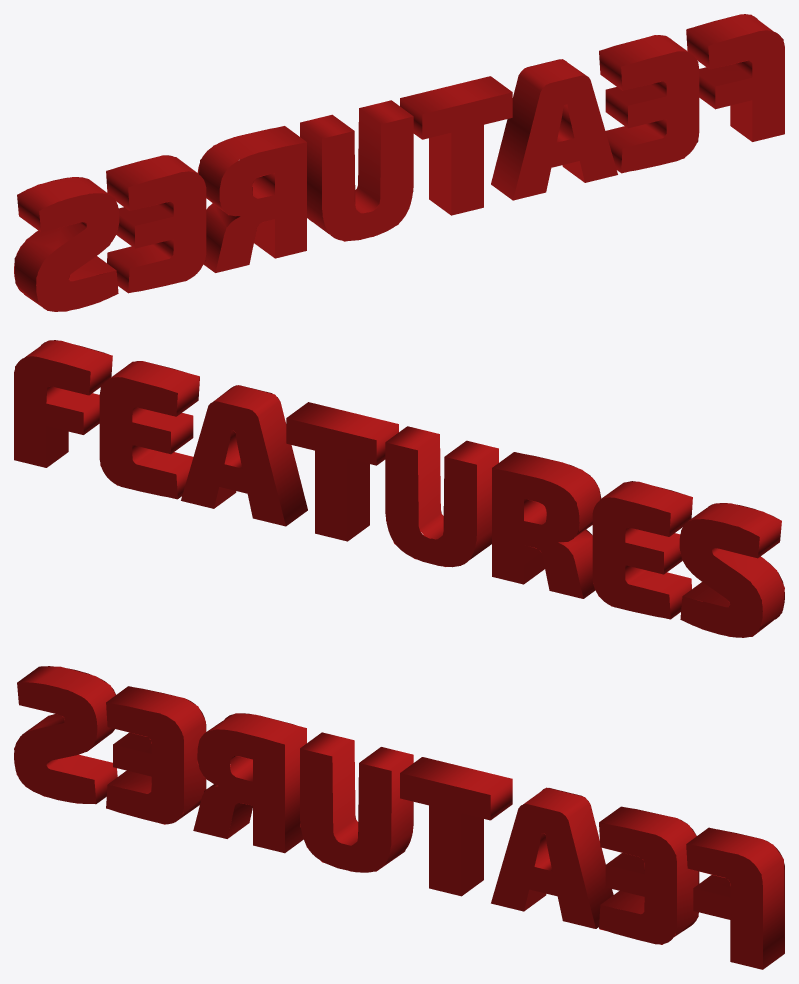
The model's file is features.fbx.
The picture shows the model from 3 angles, top to bottom: view 1: azimuth 30°, elevation 25°; view 2: azimuth 150°, elevation 25°; view 3: azimuth 330°, elevation 25°; orthographic projection.
Visible parts, largest first — view 1: Text; view 2: Text; view 3: Text.
Part boxes in pixels (x1,y1,x2,y2): Text: (14,14,784,311); Text: (14,340,784,637); Text: (14,666,784,969).
Size of the model in its own units: 15.62 by 2.25 by 0.8.
